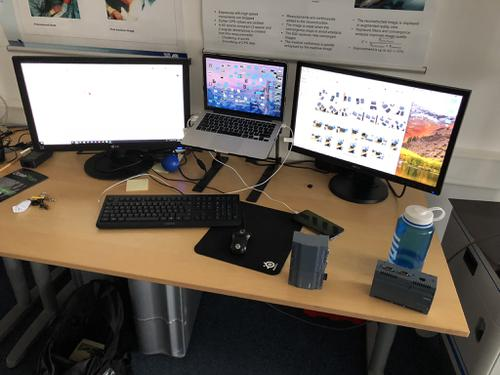device: (369, 260, 438, 315), (288, 231, 330, 291)
